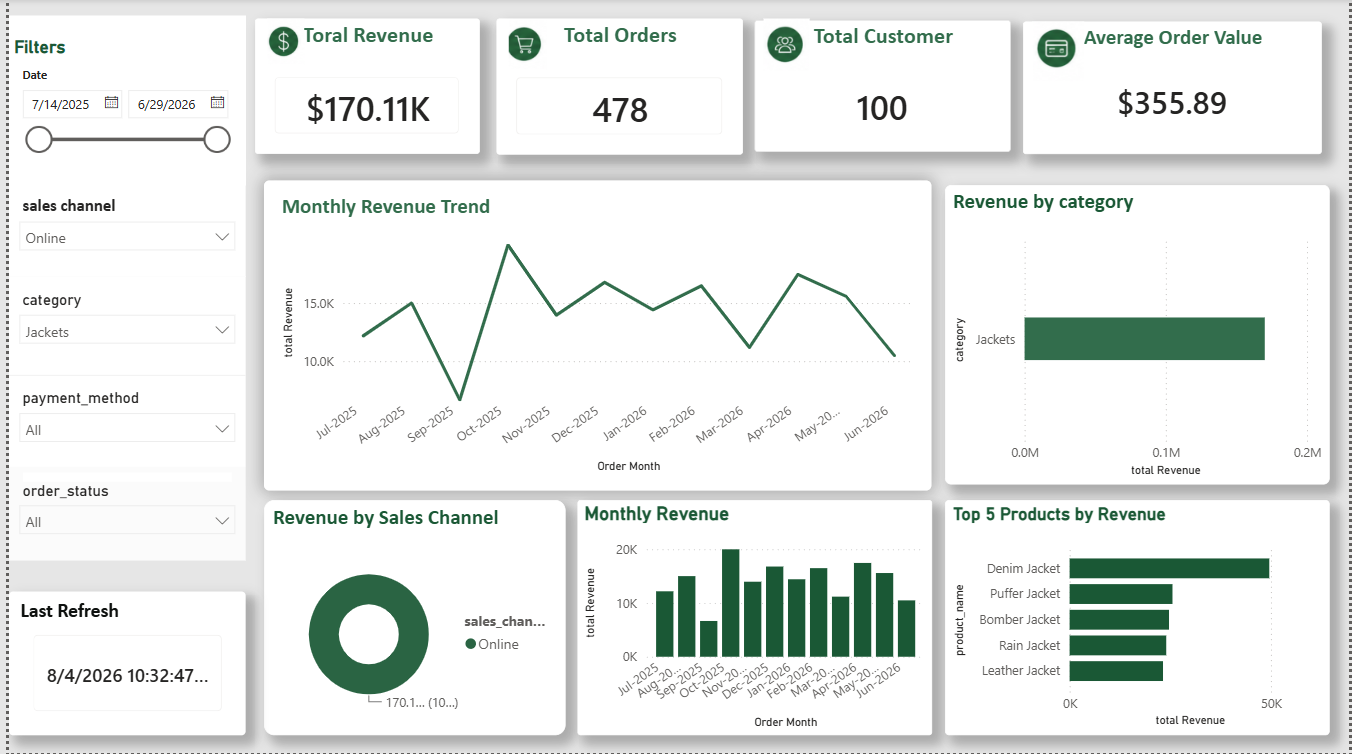

Layout of this report page (visuals, bound fields, positions):
{"tool":"powerbi","page":{"name":"Executive Overvi","canvas":[1280,720],"ordinal":0},"visuals":[{"type":"cardVisual","title":"Toral Revenue","fields":{"Data":["order_items.total Revenue"]},"box":[235.4,18.5,215,129.4],"z":0},{"type":"cardVisual","title":"Total Orders","fields":{"Data":["orders.Total orders"]},"box":[461.1,18.1,235.5,130.1],"z":1000},{"type":"cardVisual","title":"Average Order Value","fields":{"Data":["orders.Average Order Value"]},"box":[967.8,21.4,285.4,126.9],"z":2000,"group":"g1"},{"type":"lineChart","title":"Monthly Revenue Trend","fields":{"Category":["orders.Order Month"],"Y":["order_items.total Revenue"]},"box":[243.4,173.4,637.1,295.7],"z":2000},{"type":"barChart","title":" Revenue by category","fields":{"Category":["products.category"],"Y":["order_items.total Revenue"]},"box":[893.9,178,367.7,286],"z":3000},{"type":"donutChart","title":"Revenue by Sales Channel ","fields":{"Category":["orders.sales_channel"],"Y":["order_items.total Revenue"]},"box":[235.4,478.5,291.8,224.7],"z":4000},{"type":"cardVisual","title":"Total Customer","fields":{"Data":["CountNonNull(customers.Total Customers 1)"]},"box":[711.4,21.4,227.2,126.8],"z":5000},{"type":"clusteredColumnChart","title":"Monthly Revenue","fields":{"Category":["orders.Order Month"],"Y":["order_items.total Revenue"]},"box":[542.7,478.5,338.5,224.7],"z":6000},{"type":"slicer","title":"Filters","fields":{"Values":["orders.order_date"]},"box":[0,15.9,225.9,162.2],"z":7000},{"type":"slicer","fields":{"Values":["products.category"]},"box":[0,265.6,225.9,93.8],"z":8000},{"type":"slicer","fields":{"Values":["orders.payment_method"]},"box":[0,359.5,225.9,87.5],"z":9000},{"type":"slicer","fields":{"Values":["orders.order_status"]},"box":[0,447,225.9,89.1],"z":10000},{"type":"clusteredBarChart","title":"Top 5 Products by Revenue","fields":{"Category":["products.product_name"],"Y":["order_items.total Revenue"]},"box":[893.9,478.5,367.7,224.7],"z":11000},{"type":"cardVisual","title":"Last Refresh","fields":{"Data":["Min(Refresh Date.Value)","select"]},"box":[0,547.2,226.6,137.1],"z":12000},{"type":"group","id":"g1","title":"Group 1","box":[967.8,21.4,284,126.4],"z":13000},{"type":"image","box":[974.1,21.4,56.1,57.2],"z":13001,"group":"g1"},{"type":"image","box":[711.4,36.2,62,47.7],"z":14000},{"type":"image","box":[392,18.5,202.3,47.7],"z":15000},{"type":"image","box":[230.5,18.5,67.1,43.8],"z":16000},{"type":"slicer","fields":{"Values":["orders.sales_channel"]},"box":[0,173.4,225.9,92.3],"z":16001}]}

Visuals, with their boxes in screenshot pixels (x1, y1, x2, y2), scaled from the page's 1280x720 canvas onto the 1352x754 screenshot:
"Toral Revenue" cardVisual: (249,19,476,155)
"Total Orders" cardVisual: (487,19,736,155)
"Average Order Value" cardVisual: (1022,22,1324,155)
"Monthly Revenue Trend" lineChart: (257,182,930,491)
" Revenue by category" barChart: (944,186,1333,486)
"Revenue by Sales Channel " donutChart: (249,501,557,736)
"Total Customer" cardVisual: (751,22,991,155)
"Monthly Revenue" clusteredColumnChart: (573,501,931,736)
"Filters" slicer: (0,17,239,187)
slicer - products.category: (0,278,239,376)
slicer - orders.payment_method: (0,376,239,468)
slicer - orders.order_status: (0,468,239,561)
"Top 5 Products by Revenue" clusteredBarChart: (944,501,1333,736)
"Last Refresh" cardVisual: (0,573,239,717)
"Group 1" group: (1022,22,1322,155)
image: (1029,22,1088,82)
image: (751,38,817,88)
image: (414,19,628,69)
image: (243,19,314,65)
slicer - orders.sales_channel: (0,182,239,278)
